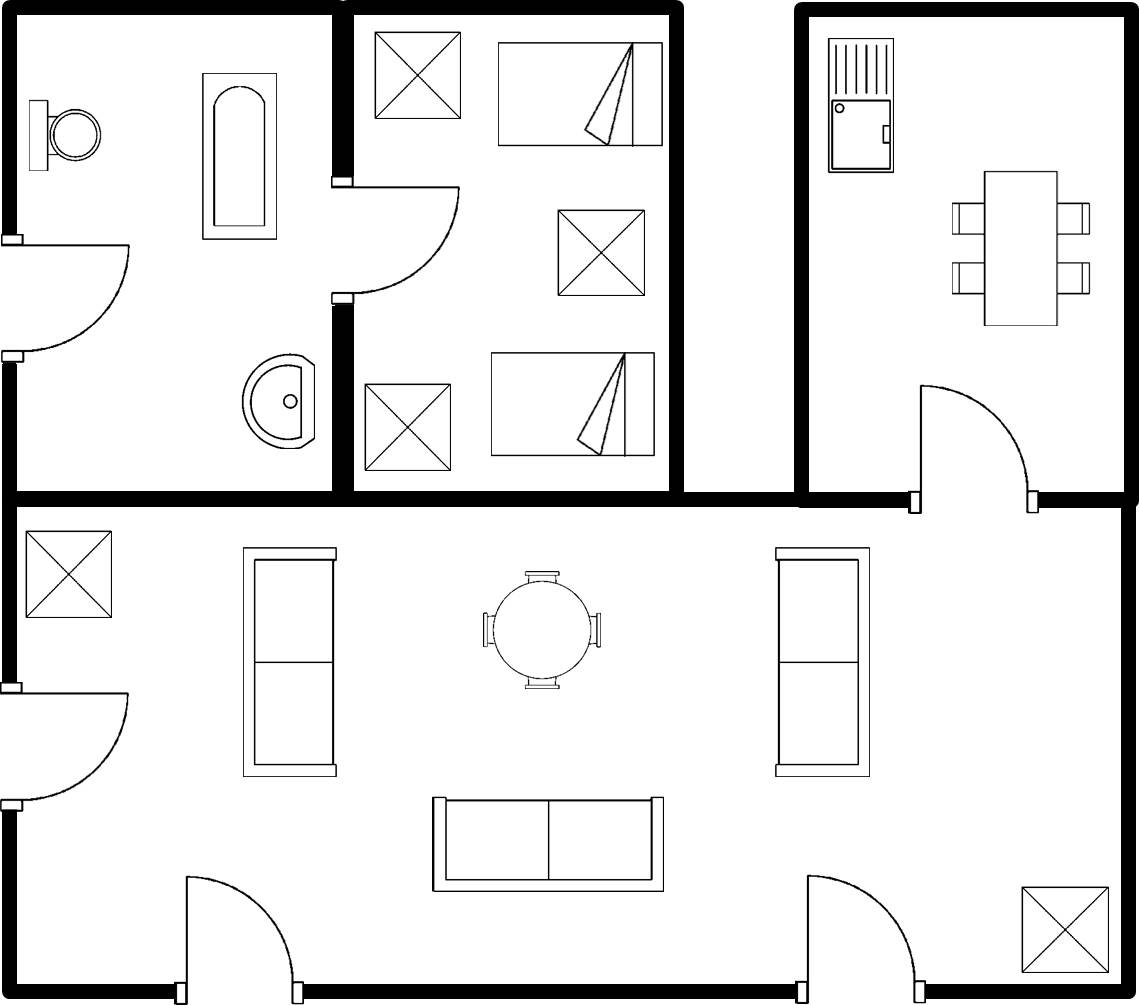bed: (491, 33, 667, 153), (485, 343, 659, 463)
coffee_table: (21, 523, 121, 624), (548, 203, 651, 301), (1014, 881, 1117, 978), (367, 27, 467, 126), (360, 374, 457, 476)
dining_table: (946, 163, 1099, 337)
large_sink: (22, 94, 105, 178)
large_sofa: (425, 788, 674, 899), (237, 539, 340, 784)
round_table: (765, 541, 877, 785), (476, 563, 611, 695)
sink: (818, 31, 904, 180)
small_sink: (236, 347, 321, 457)
tub: (194, 67, 285, 251)
